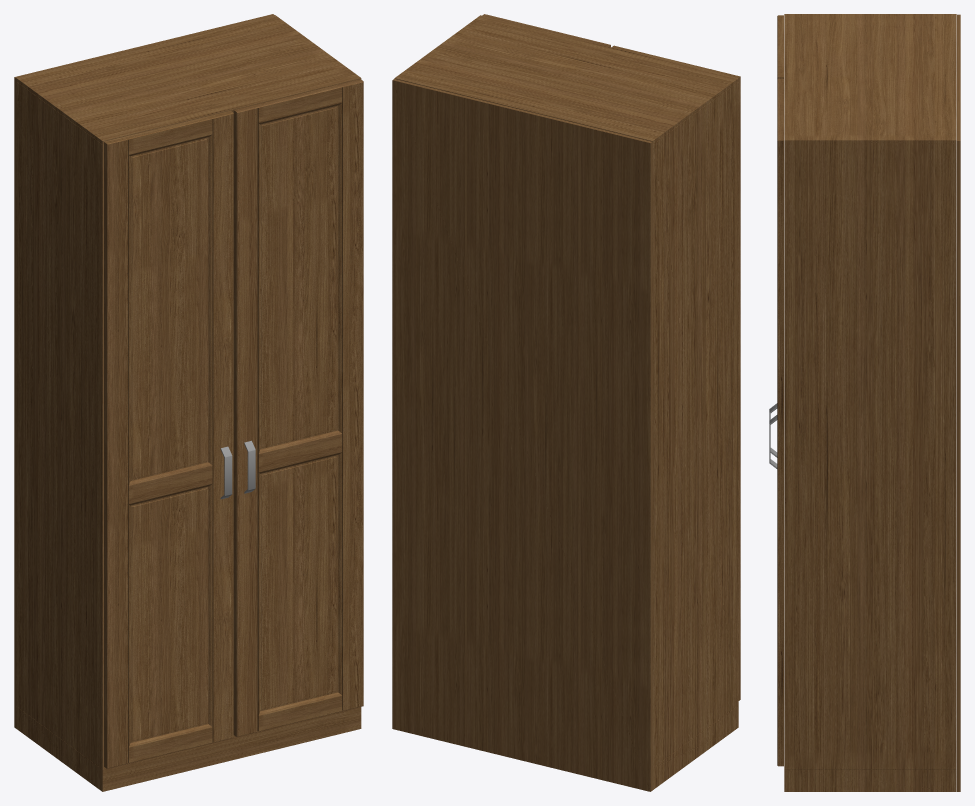
Rendered from Wardrobe 3.FBX.
The picture shows the model from 3 angles, left to right: view 1: azimuth 30°, elevation 25°; view 2: azimuth 150°, elevation 25°; view 3: azimuth 270°, elevation 25°; orthographic projection.
Parts seen in each view (by area): view 1: wardrobe 3, door A, door B; view 2: wardrobe 3, door B; view 3: wardrobe 3, door A, door B.
Part boxes in pixels (<box>): wardrobe 3: <box>14,14,361,791</box>; door A: <box>233,79,363,736</box>; door B: <box>104,110,233,768</box>; wardrobe 3: <box>392,15,738,791</box>; door B: <box>612,45,740,700</box>; wardrobe 3: <box>784,14,960,791</box>; door A: <box>769,78,783,766</box>; door B: <box>769,15,783,457</box>.
Size of the model in its own units: 83.37 by 200 by 53.41.
Materials: 2 (1 with a texture image).
